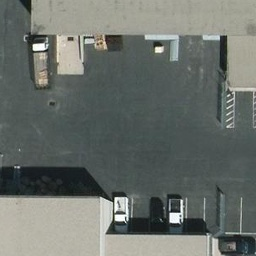car: (112, 197, 130, 232), (169, 197, 186, 233), (149, 200, 167, 234)
